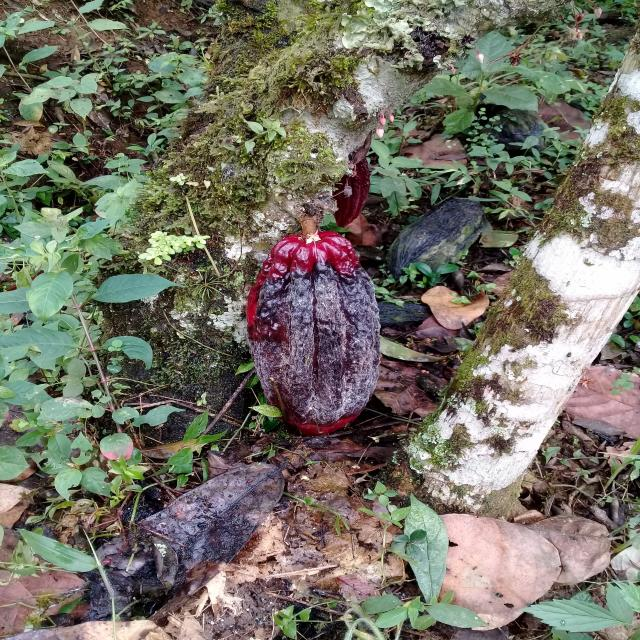Fitoftora: (249, 232, 382, 435)
